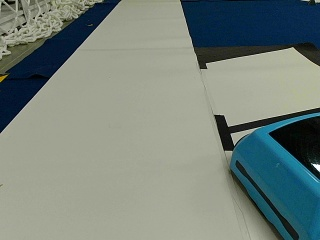car: (228, 105, 319, 238)
